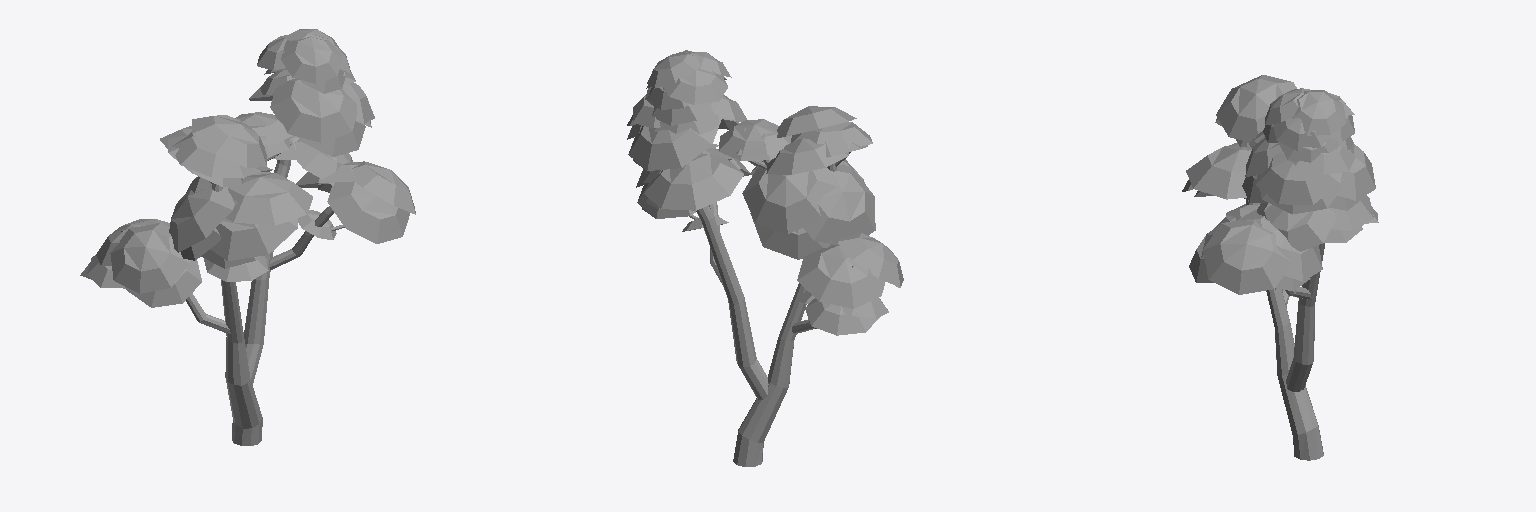
Rendered from Birch_8.obj.
3 renders of one model, left to right at view 1: azimuth 30°, elevation 25°; view 2: azimuth 150°, elevation 25°; view 3: azimuth 270°, elevation 25°, orthographic.
Parts seen in each view (by area): view 1: Birch_8; view 2: Birch_8; view 3: Birch_8.
Boxes of the visible parts, x1,y1,x2,y2 form: Birch_8: [80, 29, 415, 445]; Birch_8: [627, 50, 903, 466]; Birch_8: [1182, 75, 1378, 460].
Bounding box in the file's own units: 7.33 × 9.9 × 4.51.